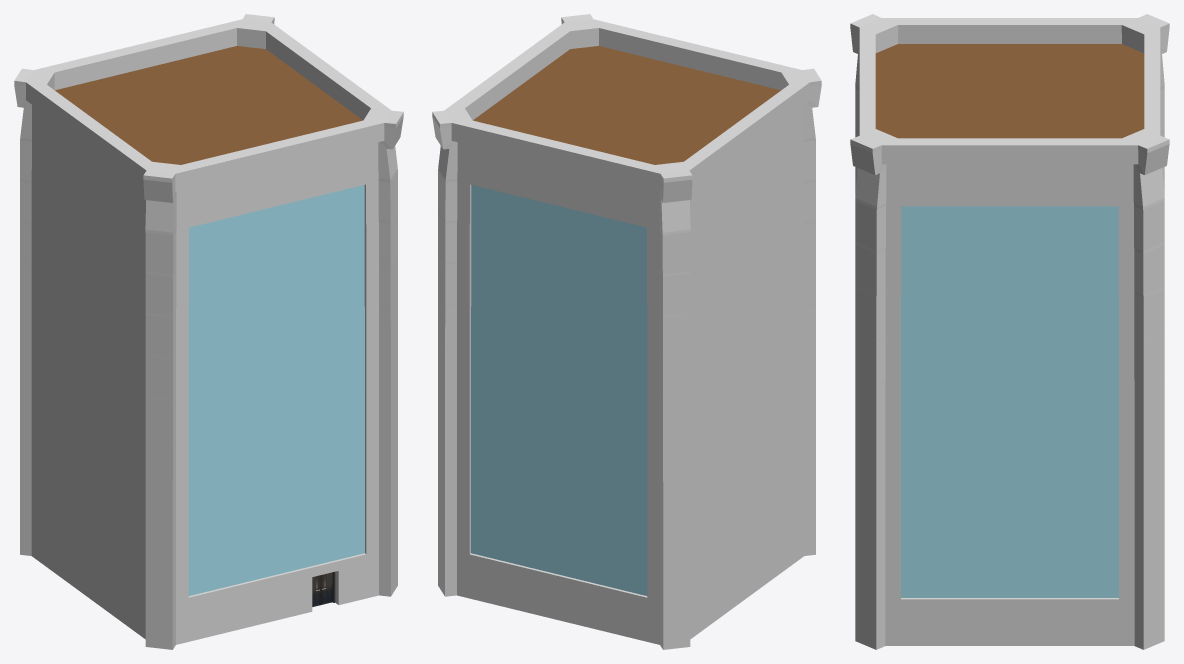
Rendered from skyrise_double_single.fbx.
The picture shows the model from 3 angles, left to right: view 1: azimuth 30°, elevation 25°; view 2: azimuth 150°, elevation 25°; view 3: azimuth 270°, elevation 25°; orthographic projection. The views are drawn at different scales.
Visible parts, largest first — view 1: skyrise_double.001; view 2: skyrise_double.001; view 3: skyrise_double.001.
Boxes of the visible parts, bbox=[...] form: skyrise_double.001: bbox=[14, 14, 403, 649]; skyrise_double.001: bbox=[432, 14, 821, 649]; skyrise_double.001: bbox=[850, 14, 1169, 649].
Bounding box in the file's own units: 1973 × 3431 × 1973.
